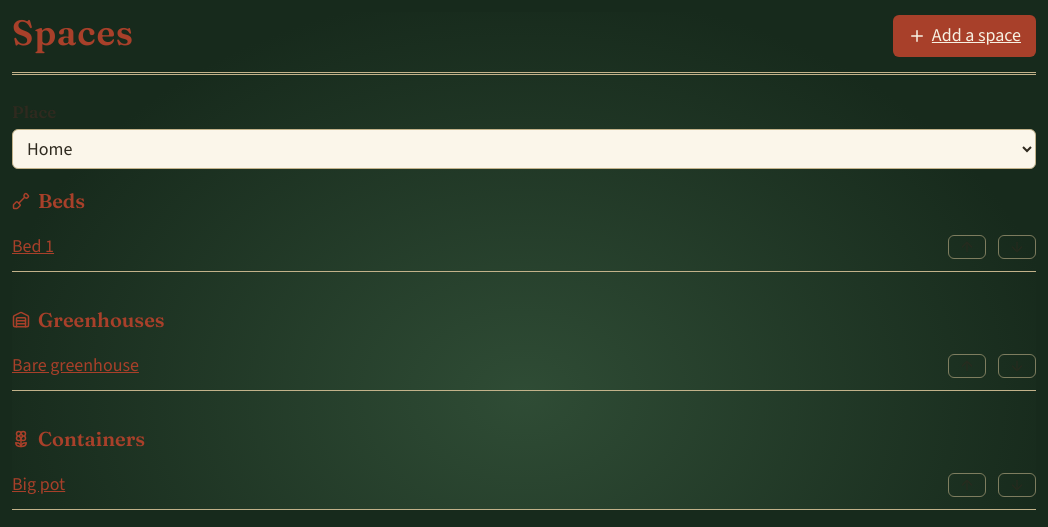
it: spaces list › the place picker defaults to the current place
Check: the link "Bed 1" is shown, box [12,234,54,258]
Check: the link "Far bed" is not shown
Select "Later place" in the dropdown labelled "Place" at (524, 149), box [12,129,1036,169]
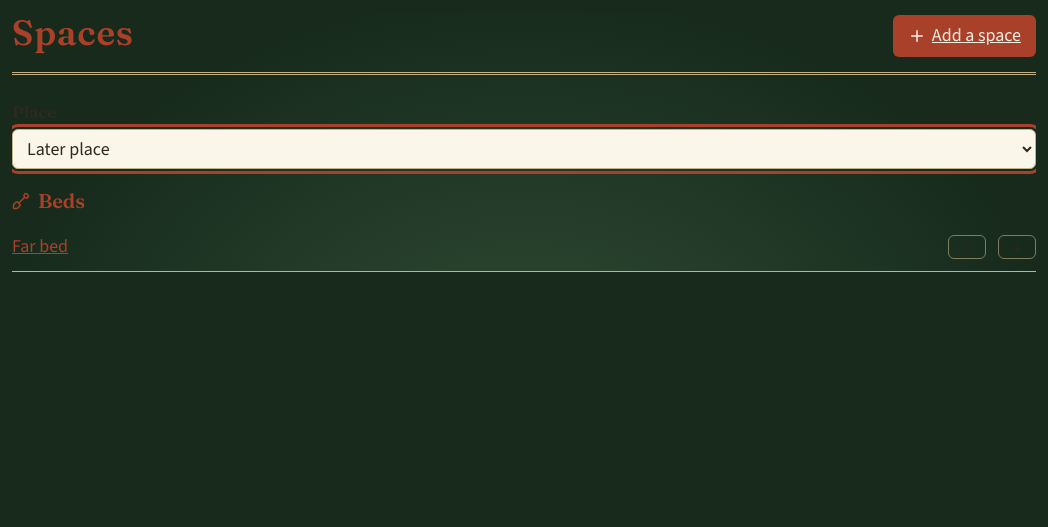
Check: the link "Far bed" is shown, box [12,234,68,258]
